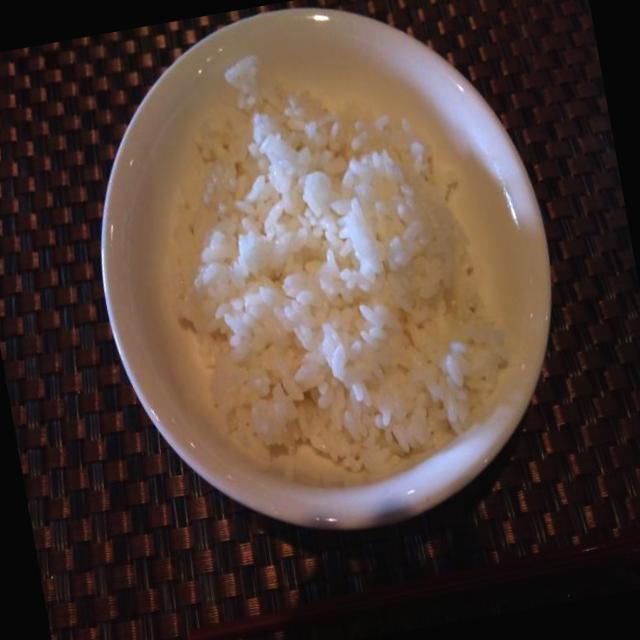Rice: (152, 68, 499, 468)
